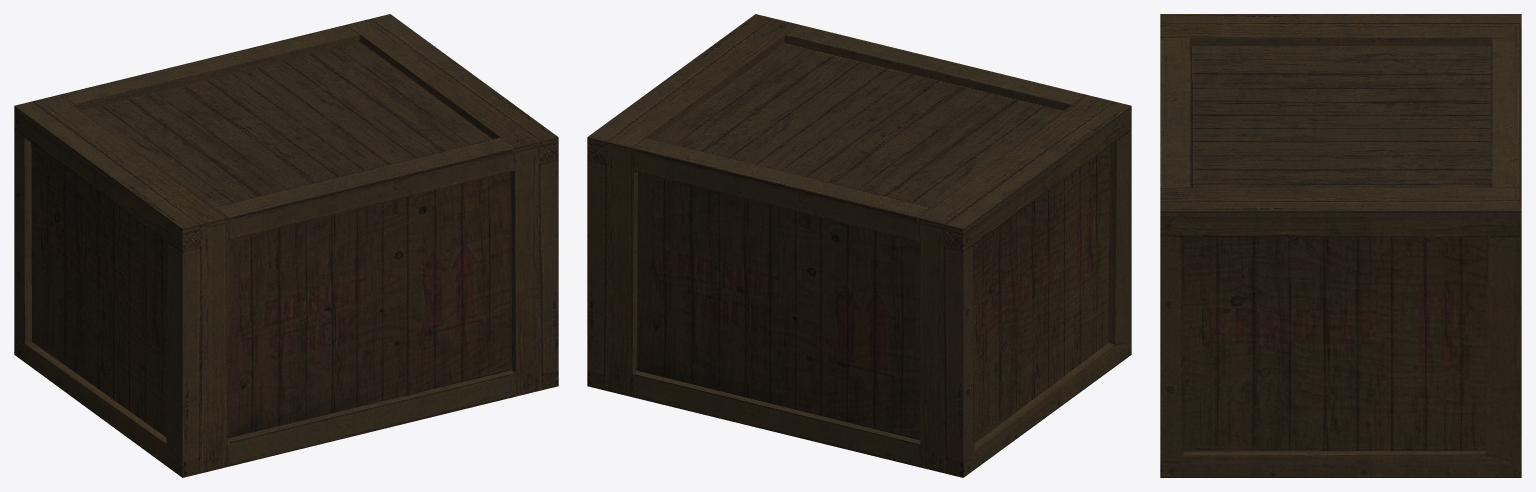
Rendered from wooden_crate_1.glb.
3 views of the same model, side by side, from view 1: azimuth 30°, elevation 25°; view 2: azimuth 150°, elevation 25°; view 3: azimuth 270°, elevation 25° (orthographic). The views are drawn at different scales.
Parts seen in each view (by area): view 1: wooden_crate_1; view 2: wooden_crate_1; view 3: wooden_crate_1.
Part boxes in pixels (bbox=[...]): wooden_crate_1: bbox=[14, 14, 558, 477]; wooden_crate_1: bbox=[587, 14, 1131, 477]; wooden_crate_1: bbox=[1160, 14, 1521, 477].
Bounding box in the file's own units: 1.47 × 0.93 × 1.14.
Materials: 1 (1 with a texture image).
